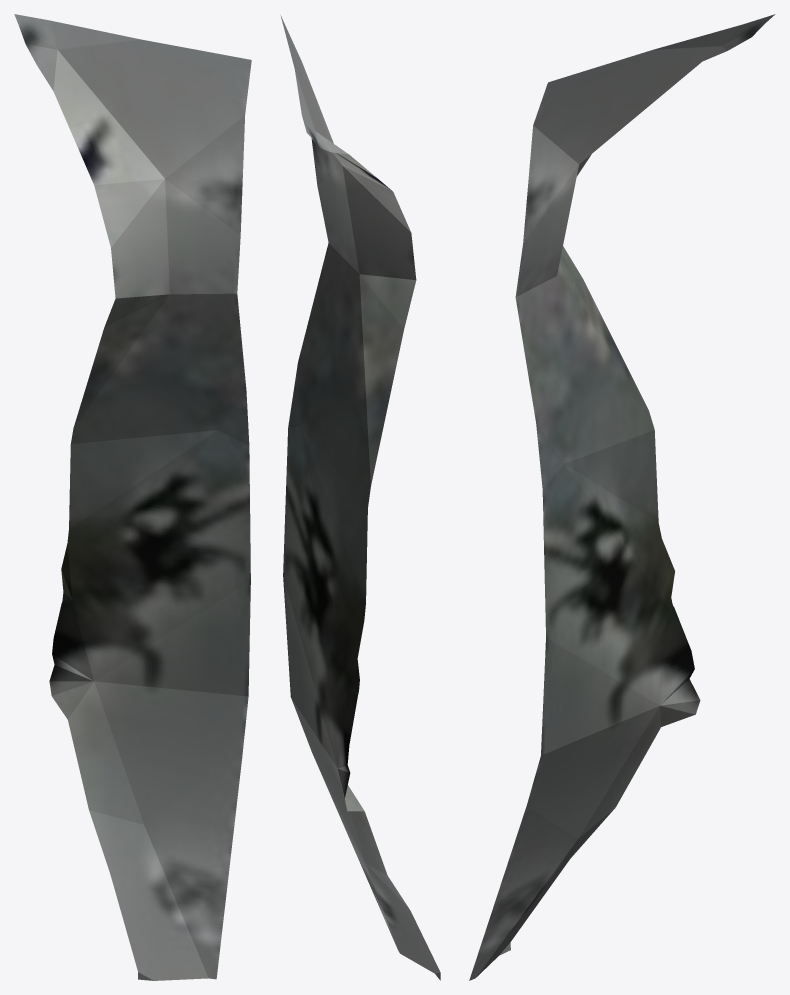
The picture shows the model from 3 angles, left to right: view 1: azimuth 30°, elevation 25°; view 2: azimuth 150°, elevation 25°; view 3: azimuth 270°, elevation 25°; orthographic projection. The views are drawn at different scales.
Size of the model in its own units: 0.2625 by 1.67 by 0.4973.
1 material, 1 textured.
